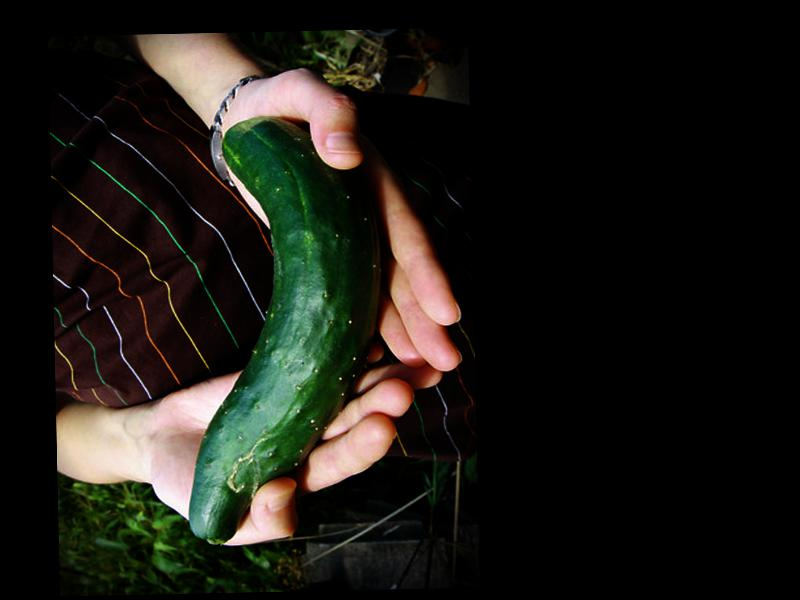Cucumber: (180, 114, 387, 542)
